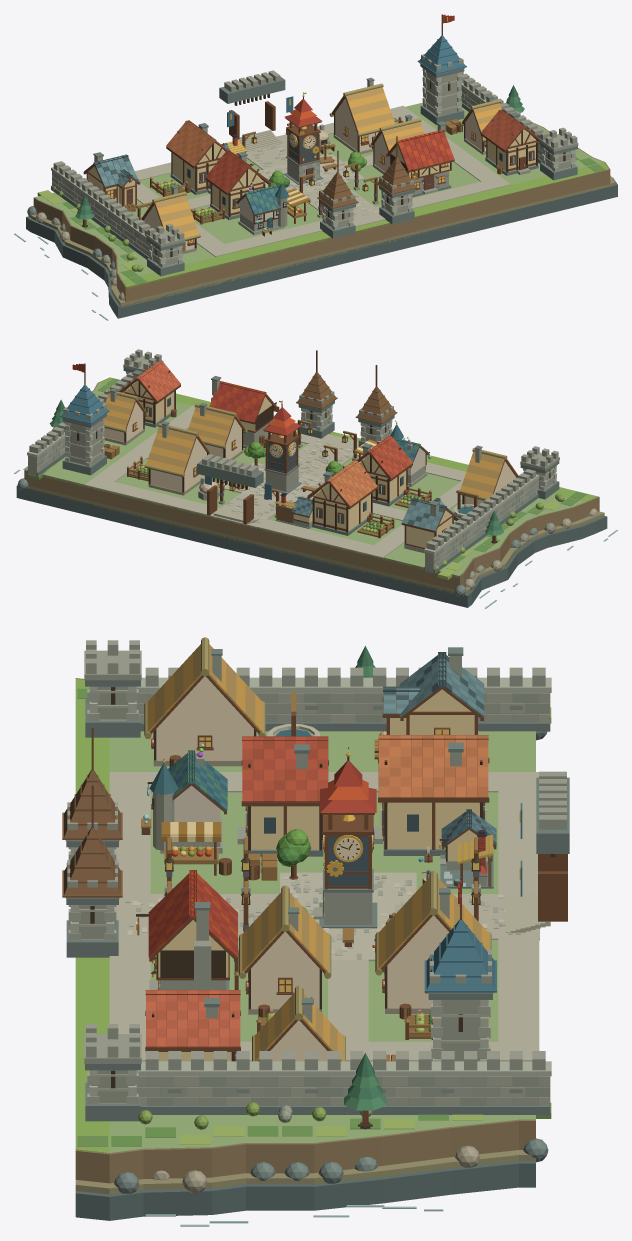
The model's file is 02_WalledTown.fbx.
3 renders of one model, top to bottom at view 1: azimuth 30°, elevation 25°; view 2: azimuth 150°, elevation 25°; view 3: azimuth 270°, elevation 25°, orthographic. The views are drawn at different scales.
Visible parts, largest first — view 1: GroundAndDetails_1_3, GroundAndDetails_1_2, GroundAndDetails_1_0, GroundAndDetails_1_-1, wall_0126, tower_0164, house_0138, GroundAndDetails_1_1, tavern_0129, house_0121, house_0152, house_0116 (+14 smaller); view 2: GroundAndDetails_1_-2, GroundAndDetails_1_-1, GroundAndDetails_1_2, GroundAndDetails_1_0, wall_0126, house_0121, house_0138, tower_0164, GroundAndDetails_1_1, clocktower_0112, tavern_0129, house_0116 (+15 smaller); view 3: GroundAndDetails_1_0, GroundAndDetails_1_2, GroundAndDetails_1_-1, wall_0143, GroundAndDetails_1_1, wall_0126, house_0121, house_0146, GroundAndDetails_1_3, house_0116, tavern_0129, clocktower_0112 (+17 smaller).
Boxes of the visible parts, x1=… form: GroundAndDetails_1_3: x1=99, y1=162, x2=617, y2=320; GroundAndDetails_1_2: x1=91, y1=148, x2=612, y2=312; GroundAndDetails_1_0: x1=44, y1=113, x2=543, y2=267; GroundAndDetails_1_-1: x1=14, y1=105, x2=468, y2=250; wall_0126: x1=51, y1=161, x2=156, y2=259; tower_0164: x1=417, y1=35, x2=466, y2=125; house_0138: x1=329, y1=77, x2=395, y2=154; GroundAndDetails_1_1: x1=81, y1=127, x2=549, y2=286; tavern_0129: x1=386, y1=121, x2=454, y2=197; house_0121: x1=166, y1=120, x2=228, y2=194; house_0152: x1=481, y1=109, x2=539, y2=175; house_0116: x1=205, y1=150, x2=270, y2=219; GroundAndDetails_1_-2: x1=16, y1=467, x2=471, y2=607; GroundAndDetails_1_-1: x1=14, y1=456, x2=505, y2=608; GroundAndDetails_1_2: x1=92, y1=383, x2=607, y2=550; GroundAndDetails_1_0: x1=23, y1=413, x2=517, y2=586; wall_0126: x1=424, y1=469, x2=539, y2=573; house_0121: x1=307, y1=460, x2=377, y2=535; house_0138: x1=144, y1=421, x2=212, y2=495; tower_0164: x1=60, y1=385, x2=109, y2=475; GroundAndDetails_1_1: x1=131, y1=425, x2=548, y2=565; clocktower_0112: x1=262, y1=400, x2=301, y2=494; tavern_0129: x1=209, y1=376, x2=279, y2=448; house_0116: x1=356, y1=436, x2=412, y2=506; GroundAndDetails_1_0: x1=150, y1=731, x2=498, y2=1217; GroundAndDetails_1_2: x1=109, y1=731, x2=278, y2=1226; GroundAndDetails_1_-1: x1=416, y1=731, x2=539, y2=1211; wall_0143: x1=136, y1=1051, x2=551, y2=1114; GroundAndDetails_1_1: x1=209, y1=731, x2=314, y2=1223; wall_0126: x1=136, y1=667, x2=551, y2=731; house_0121: x1=373, y1=735, x2=489, y2=855; house_0146: x1=144, y1=637, x2=265, y2=766; GroundAndDetails_1_3: x1=75, y1=678, x2=109, y2=1220; house_0116: x1=237, y1=736, x2=328, y2=856; tavern_0129: x1=136, y1=870, x2=237, y2=989; clocktower_0112: x1=313, y1=747, x2=377, y2=928.
Size of the model in its own units: 70.85 by 16.97 by 29.75.
1 material, 1 textured.
